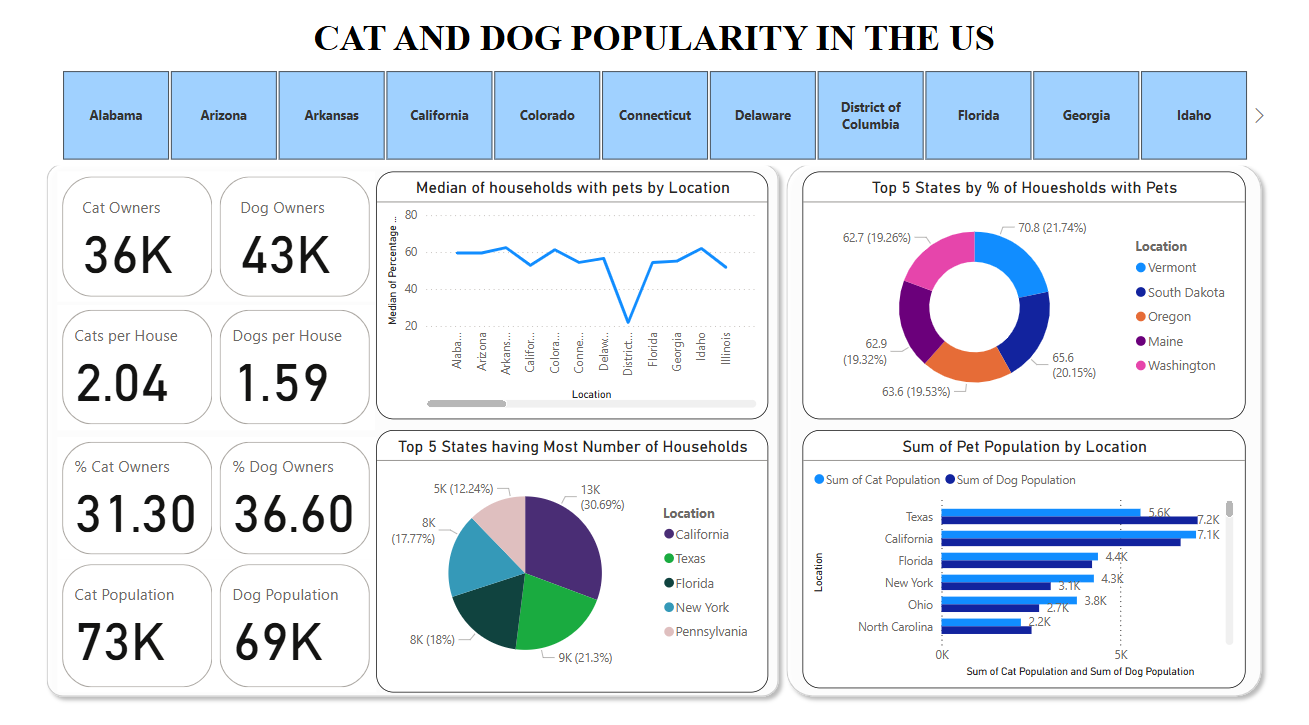

This screenshot's page, from the dashboard's own definition file:
{"tool":"powerbi","page":{"name":"Page 1","canvas":[1280,720],"ordinal":0},"visuals":[{"type":"shape","box":[0,148.3,778.3,571.7],"z":0},{"type":"shape","box":[768.6,148.6,511.4,571.4],"z":1000},{"type":"slicer","fields":{"Values":["States.Location"]},"box":[0,54.9,1280.3,105.7],"z":2000},{"type":"textbox","box":[0,0,1280.3,54.9],"z":3000},{"type":"cardVisual","fields":{"Data":["Sum(States.Cat Owning Households)","Sum(States.Dog Owning Households (1000s))"]},"box":[20.3,165.1,330.2,135.3],"z":4000},{"type":"cardVisual","fields":{"Data":["Avg(States.Mean Number of Cats)","Avg(States.Mean Number of Dogs per household)"]},"box":[20.3,304.5,330.2,129.9],"z":5000},{"type":"cardVisual","fields":{"Data":["Median(States.Percentage of Cat Owners)","Median(States.Percentage of Dog Owners)"]},"box":[20.3,441.2,331.6,127.2],"z":6000},{"type":"cardVisual","fields":{"Data":["Sum(States.Cat Population)","Sum(States.Dog Population (in 1000))"]},"box":[20.3,568.4,331.6,138],"z":7000},{"type":"lineChart","title":"Median of households with pets by Location","fields":{"Category":["States.Location"],"Y":["Median(States.Percentage of households with pets)"]},"box":[351.4,165.7,407.1,257.1],"z":8000},{"type":"clusteredBarChart","title":"Sum of Pet Population by Location","fields":{"Category":["States.Location"],"Y":["Sum(States.Cat Population)","Sum(States.Dog Population (in 1000))"]},"box":[794.3,434.3,460,268.6],"z":9000},{"type":"donutChart","title":"Top 5 States by % of Houesholds with Pets","fields":{"Y":["Median(States.Percentage of households with pets)"],"Category":["States.Location"]},"box":[794.3,165.7,460,257.1],"z":10000},{"type":"pieChart","title":"Top 5 States having Most Number of Households","fields":{"Y":["Sum(States.Number of Households (in 1000))"],"Category":["States.Location"]},"box":[351.4,434.3,407.1,272.9],"z":10001}]}

Visuals, with their boxes in screenshot pixels (x1, y1, x2, y2), scaled from the page's 1280x720 canvas onto the 1309x725 screenshot:
shape: select_region(0, 149, 796, 724)
shape: select_region(786, 150, 1308, 724)
slicer - States.Location: select_region(0, 55, 1308, 162)
textbox: select_region(0, 0, 1308, 55)
cardVisual - Sum(States.Cat Owning Households) x Sum(States.Dog Owning Households (1000s)): select_region(21, 166, 358, 302)
cardVisual - Avg(States.Mean Number of Cats) x Avg(States.Mean Number of Dogs per household): select_region(21, 307, 358, 437)
cardVisual - Median(States.Percentage of Cat Owners) x Median(States.Percentage of Dog Owners): select_region(21, 444, 360, 572)
cardVisual - Sum(States.Cat Population) x Sum(States.Dog Population (in 1000)): select_region(21, 572, 360, 711)
"Median of households with pets by Location" lineChart: select_region(359, 167, 776, 426)
"Sum of Pet Population by Location" clusteredBarChart: select_region(812, 437, 1283, 708)
"Top 5 States by % of Houesholds with Pets" donutChart: select_region(812, 167, 1283, 426)
"Top 5 States having Most Number of Households" pieChart: select_region(359, 437, 776, 712)
